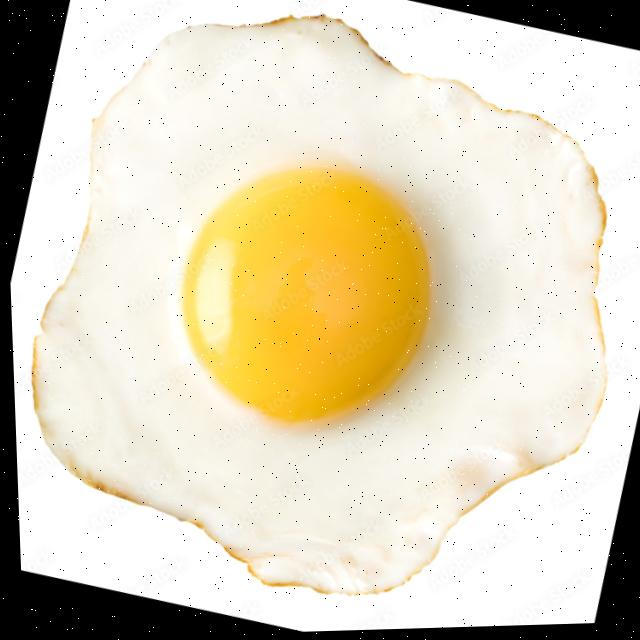Egg: (29, 19, 603, 596)
